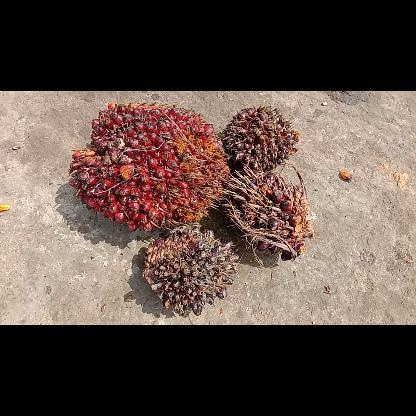TBS abnormal: (140, 221, 240, 318), (220, 161, 316, 261), (223, 104, 301, 172)
TBS masak: (66, 99, 232, 233)
